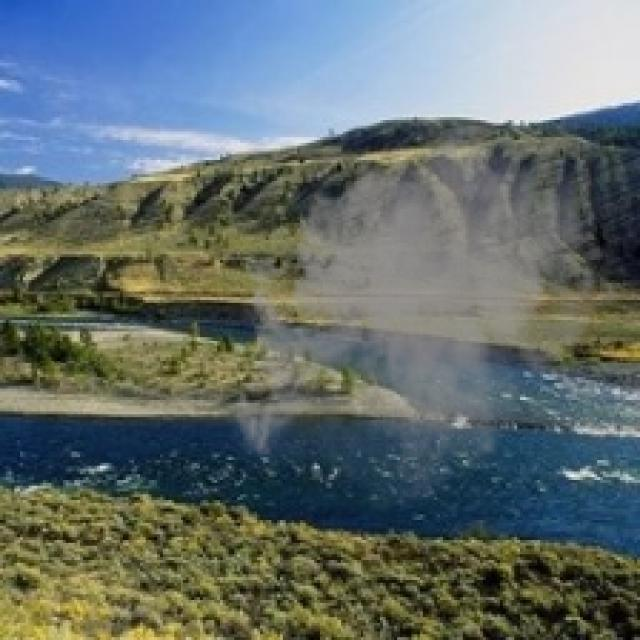Smoke: (223, 108, 623, 526)
